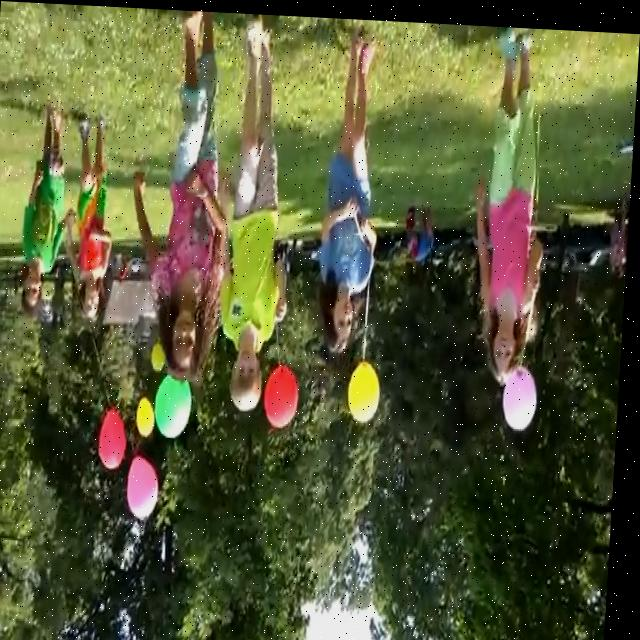balloon: (159, 371, 197, 433), (349, 351, 382, 419), (267, 360, 302, 423), (506, 360, 539, 422), (132, 455, 165, 516), (104, 406, 128, 466), (138, 395, 158, 435), (152, 338, 169, 371)
